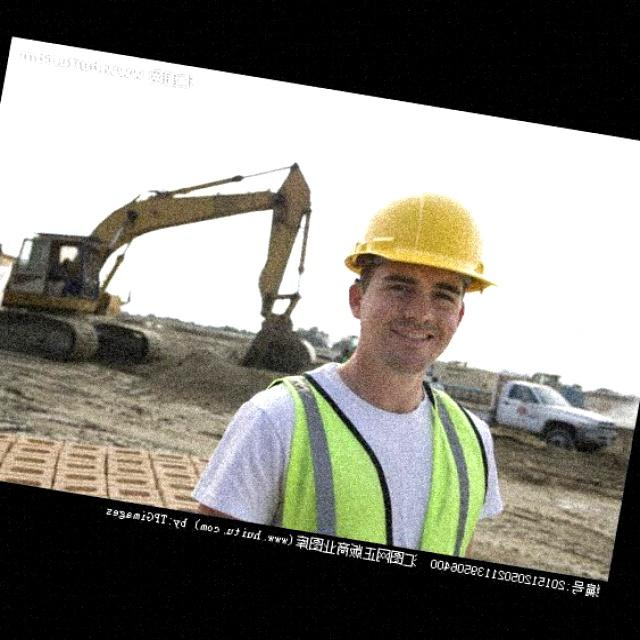Capacete: (345, 194, 493, 291)
Colete: (274, 375, 392, 544)
